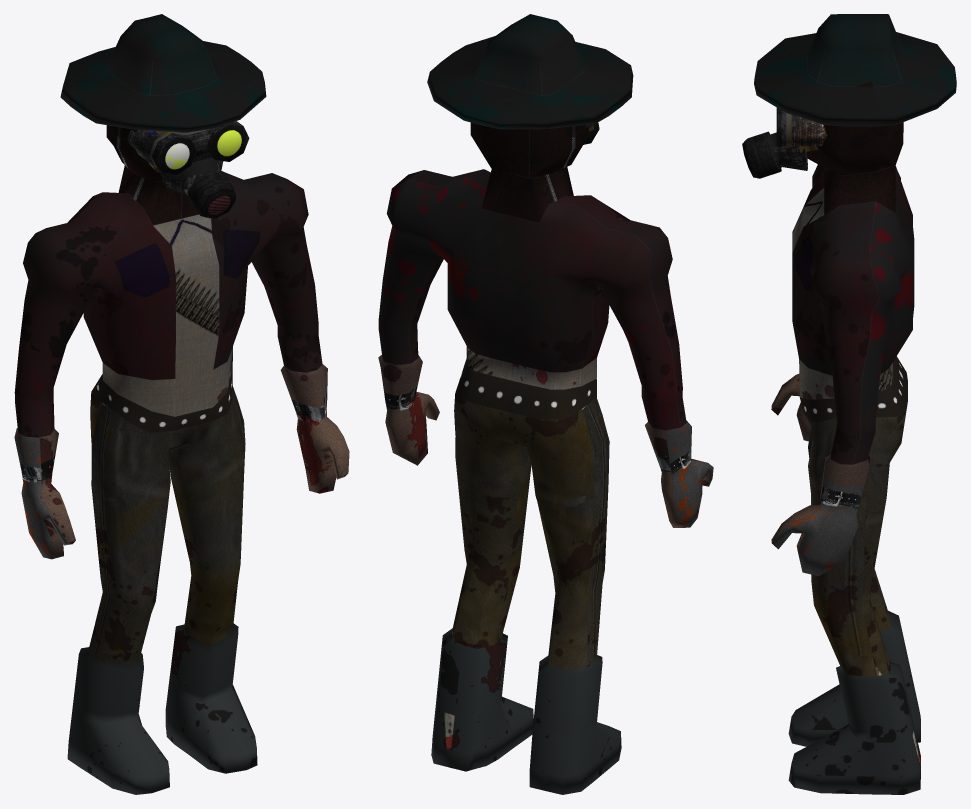
The model's file is bandit.fbx.
3 views of the same model, side by side, from view 1: azimuth 30°, elevation 25°; view 2: azimuth 150°, elevation 25°; view 3: azimuth 270°, elevation 25° (orthographic).
Parts seen in each view (by area): view 1: bandit:headusOBJexport; view 2: bandit:headusOBJexport; view 3: bandit:headusOBJexport.
Part boxes in pixels (x1,y1,x2,y2): bandit:headusOBJexport: (14, 14, 349, 794); bandit:headusOBJexport: (378, 14, 713, 794); bandit:headusOBJexport: (742, 14, 956, 794).
Bounding box in the file's own units: 0.9155 × 2.08 × 0.5493.
1 material, 1 textured.
